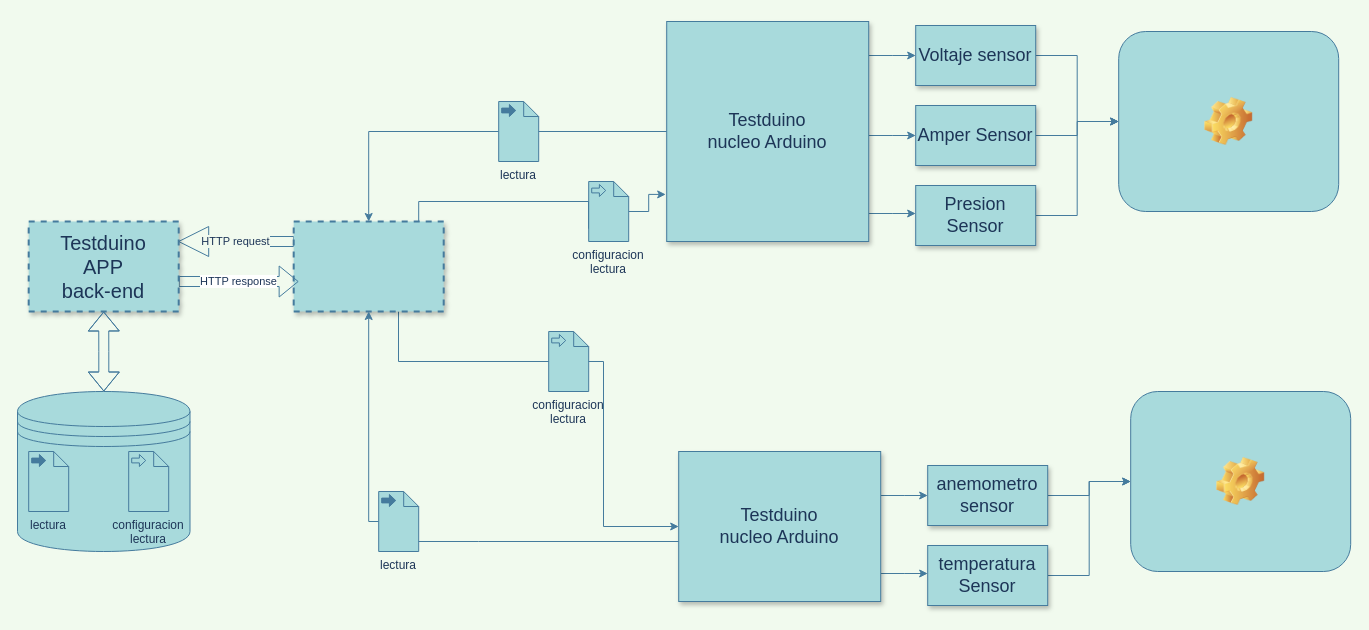
This 1369x630 diagram has some shape labels left out. The centre of each missing label's shape, as x and y in pixels:
maquina A: the point at 1228,121
maquina B: the point at 1240,481
Testduino APP front-end: the point at 369,267
